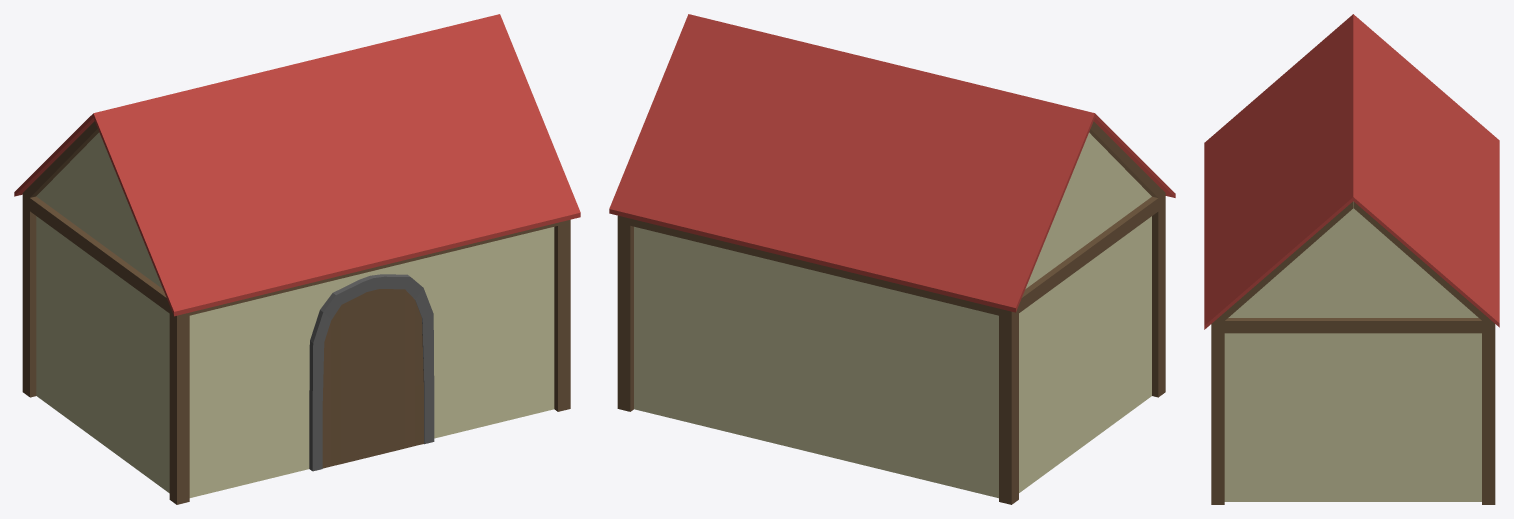
The model's file is House.fbx.
3 renders of one model, left to right at view 1: azimuth 30°, elevation 25°; view 2: azimuth 150°, elevation 25°; view 3: azimuth 270°, elevation 25°, orthographic. The views are drawn at different scales.
Parts seen in each view (by area): view 1: House; view 2: House; view 3: House.
Boxes of the visible parts, box(x1,y1,x2,y2) form: House: box(14, 14, 580, 504); House: box(609, 14, 1175, 504); House: box(1204, 14, 1499, 504).
Size of the model in its own units: 640 by 507 by 436.
